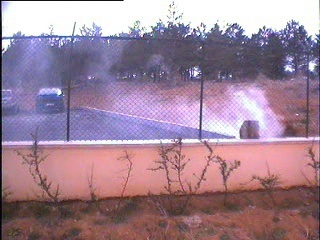smoke: (126, 71, 287, 140)
